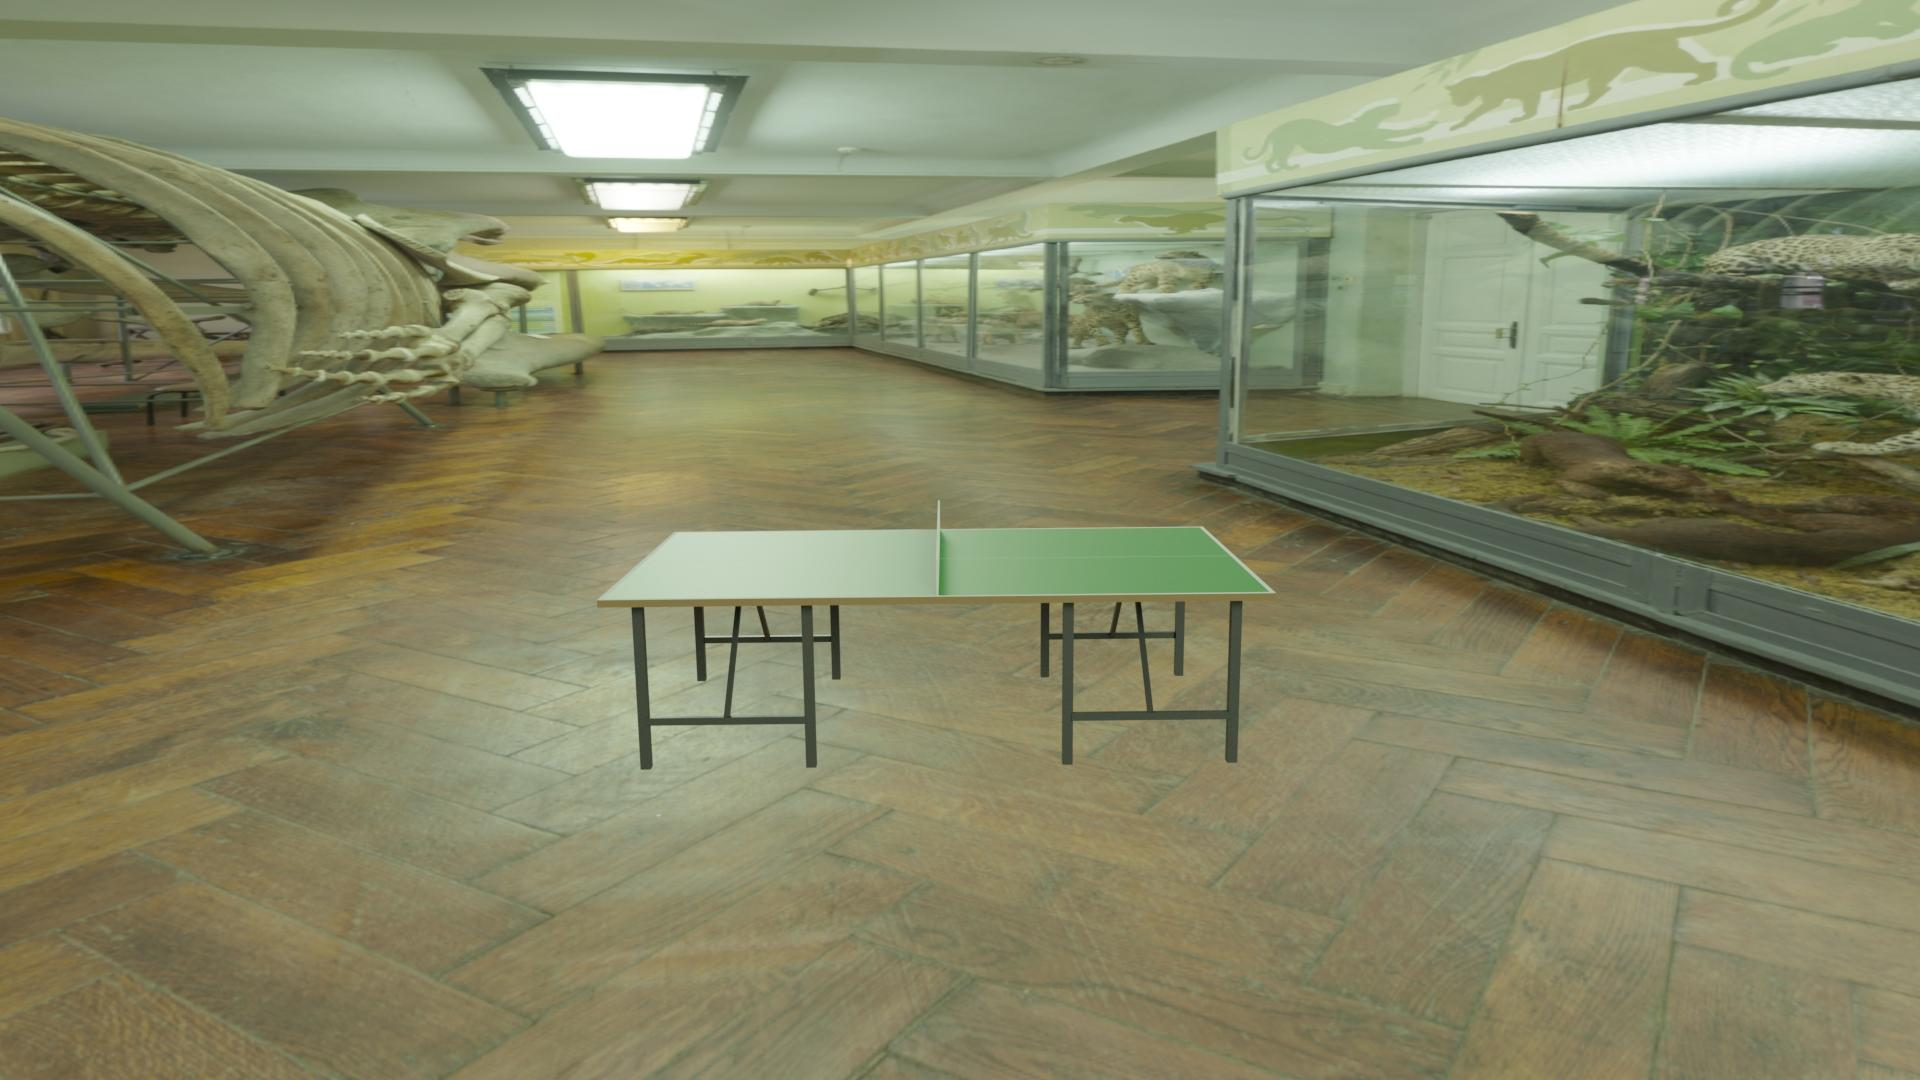table: (603, 527, 1270, 599)
